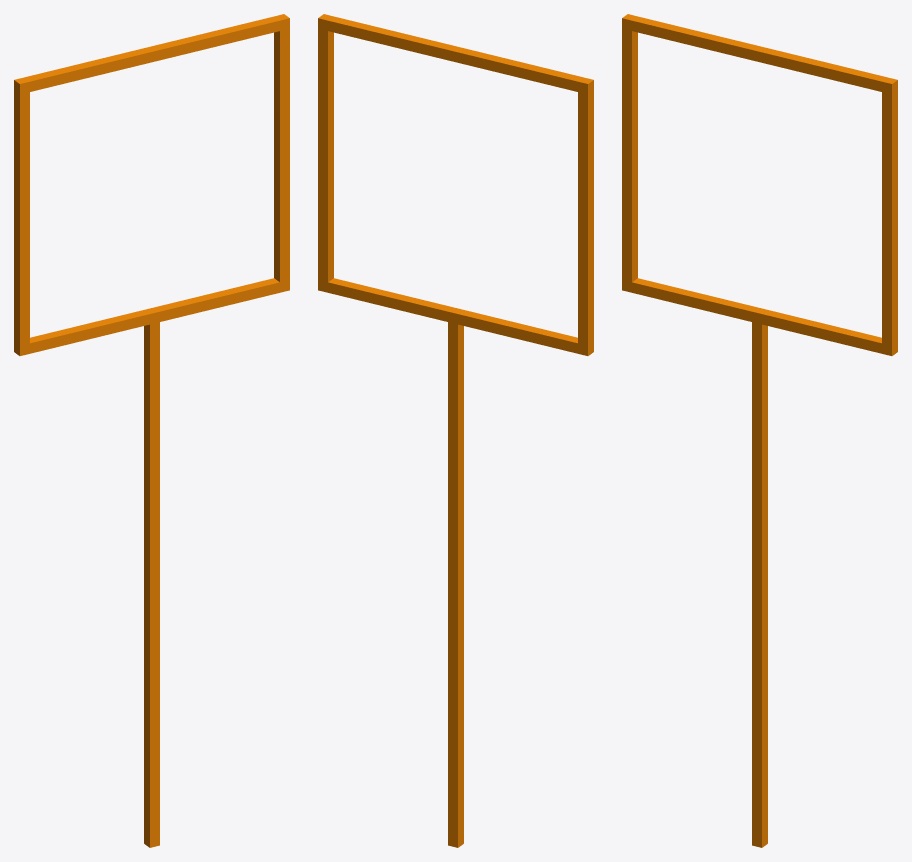
3 renders of one model, left to right at view 1: azimuth 30°, elevation 25°; view 2: azimuth 150°, elevation 25°; view 3: azimuth 330°, elevation 25°, orthographic.
Parts seen in each view (by area): view 1: group_0 (×2), group_1; view 2: group_0 (×2), group_1; view 3: group_0 (×2), group_1.
Boxes of the visible parts, x1=… form: group_0 (×2): x1=14, y1=14, x2=289, y2=355; group_1: x1=144, y1=322, x2=159, y2=847; group_0 (×2): x1=318, y1=14, x2=593, y2=355; group_1: x1=448, y1=322, x2=463, y2=847; group_0 (×2): x1=622, y1=14, x2=897, y2=355; group_1: x1=752, y1=322, x2=767, y2=847.
Size of the model in its own units: 53.15 by 1.97 by 150.
